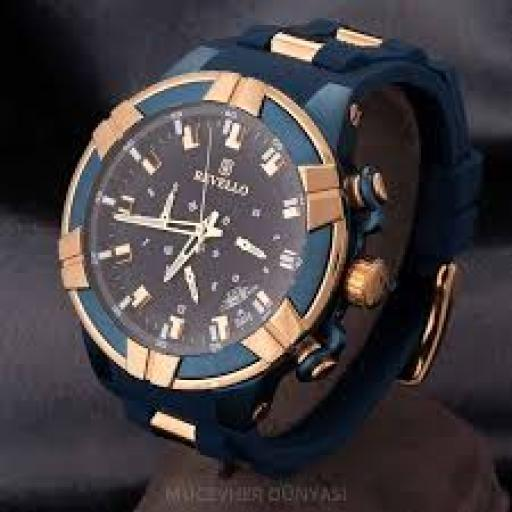KolSaati: (18, 4, 452, 487)
